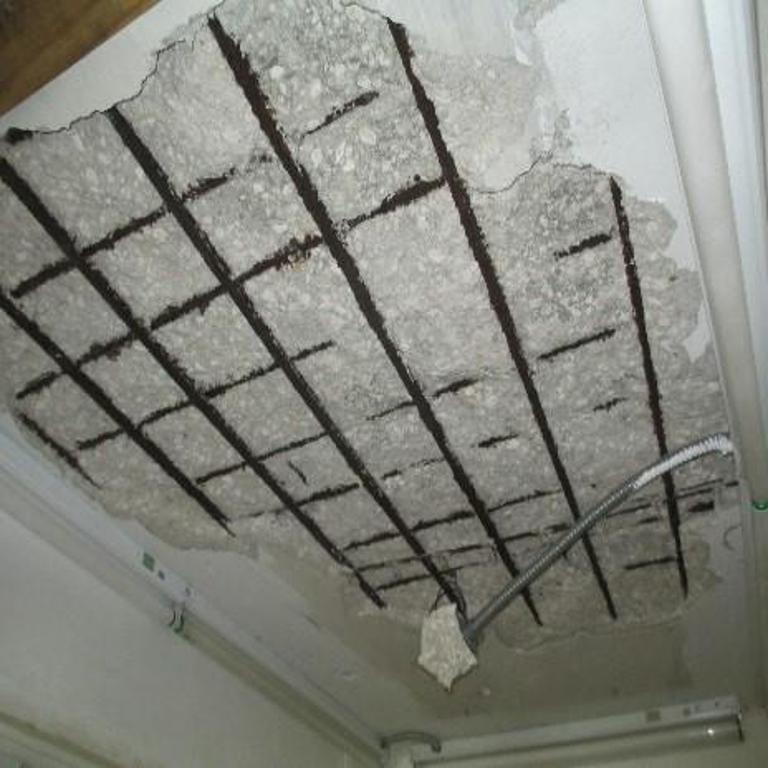exposed_rebar: (0, 158, 386, 607), (207, 15, 516, 574), (106, 108, 444, 583), (388, 18, 580, 517), (1, 291, 232, 534), (609, 177, 668, 455), (663, 474, 688, 596), (582, 532, 616, 619), (522, 590, 543, 625)
spalling: (0, 0, 728, 613), (504, 458, 738, 639)
